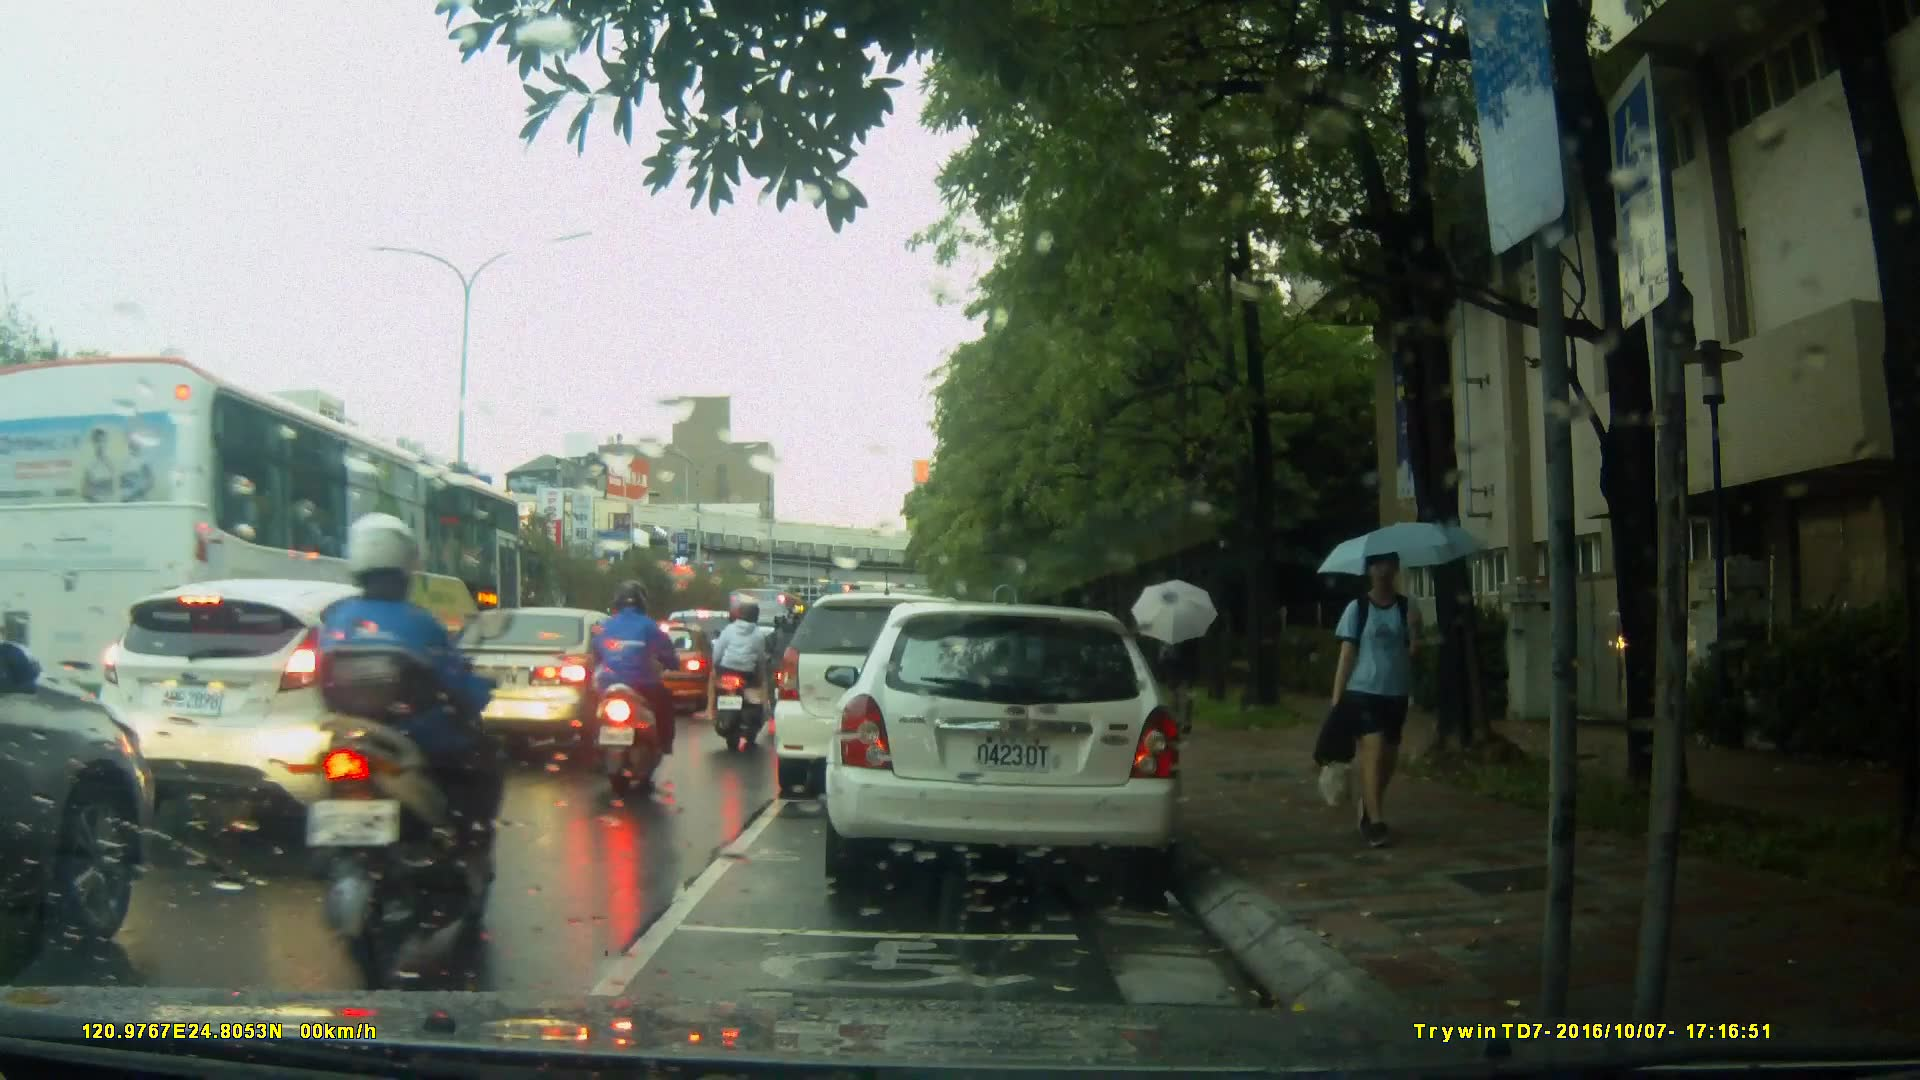pedestrian: (1319, 542, 1459, 842), (1153, 611, 1204, 735)
rider: (291, 491, 503, 980), (595, 582, 679, 789), (717, 596, 784, 760), (773, 610, 809, 723)
vehicle: (1, 351, 537, 767), (835, 594, 1194, 898), (91, 576, 485, 846), (776, 590, 1026, 784), (412, 604, 659, 754), (610, 619, 727, 719)
